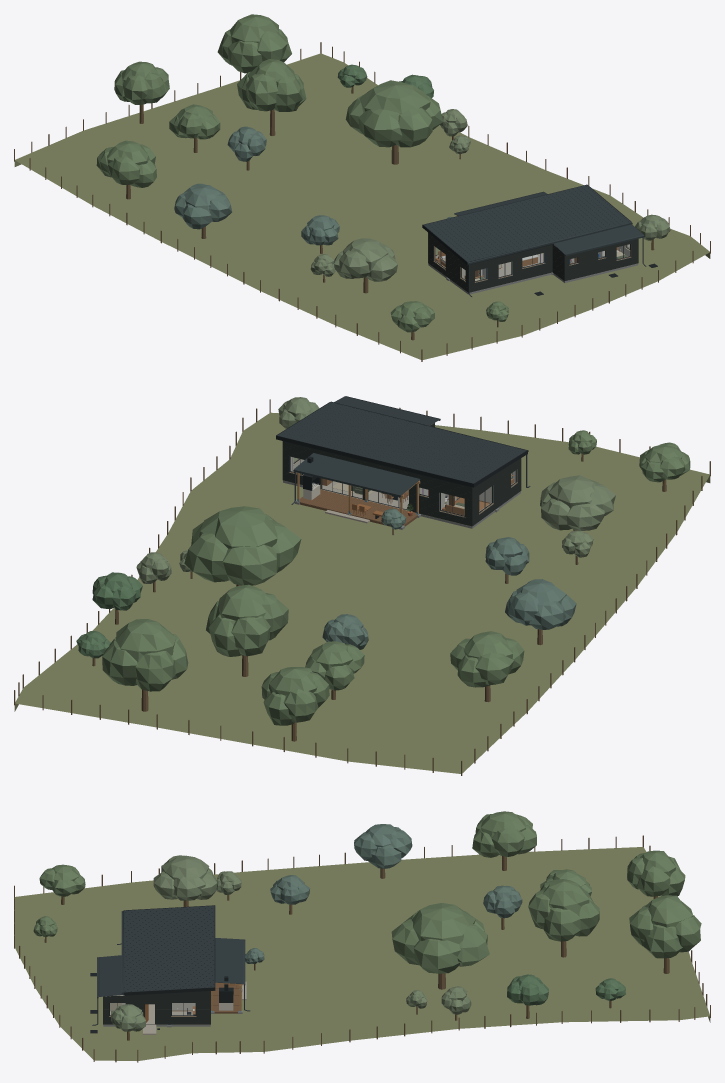
File: angus-ranch.glb
The picture shows the model from 3 angles, top to bottom: view 1: azimuth 30°, elevation 25°; view 2: azimuth 150°, elevation 25°; view 3: azimuth 270°, elevation 25°; orthographic projection. The views are drawn at different scales.
Visible parts, largest first — view 1: terreno__lote, terreno__arboles, techo__cubierta, siding__siding__S, terreno__alambrado, plomeria__pluviales, siding__siding__O; view 2: terreno__lote, terreno__arboles, techo__cubierta, siding__siding__N, terminaciones__galeria, terreno__alambrado, siding__siding__O, plomeria__pluviales, interior__pisos, interior__equipamiento; view 3: terreno__lote, terreno__arboles, techo__cubierta, siding__siding__E, terreno__alambrado, terminaciones__galeria, plomeria__pluviales.
Part boxes in pixels (x1,y1,x2,y2): terreno__lote: (14, 53, 710, 359); terreno__arboles: (96, 14, 670, 340); techo__cubierta: (422, 184, 642, 265); siding__siding__S: (469, 239, 637, 292); terreno__alambrado: (14, 42, 710, 361); plomeria__pluviales: (454, 191, 646, 296); siding__siding__O: (428, 233, 467, 291); terreno__lote: (14, 412, 710, 773); terreno__arboles: (76, 397, 690, 741); techo__cubierta: (276, 396, 527, 495); siding__siding__N: (283, 441, 471, 525); terminaciones__galeria: (296, 456, 417, 526); terreno__alambrado: (14, 399, 710, 775); siding__siding__O: (473, 458, 520, 525); plomeria__pluviales: (291, 396, 530, 504); interior__pisos: (283, 474, 489, 526); interior__equipamiento: (302, 473, 514, 515); terreno__lote: (14, 847, 710, 1060); terreno__arboles: (33, 811, 701, 1040); techo__cubierta: (99, 905, 242, 996); siding__siding__E: (104, 991, 209, 1024); terreno__alambrado: (14, 835, 710, 1062); terminaciones__galeria: (143, 976, 246, 1034); plomeria__pluviales: (92, 911, 250, 1025).
Size of the model in its own units: 49.17 by 10.25 by 67.43.
